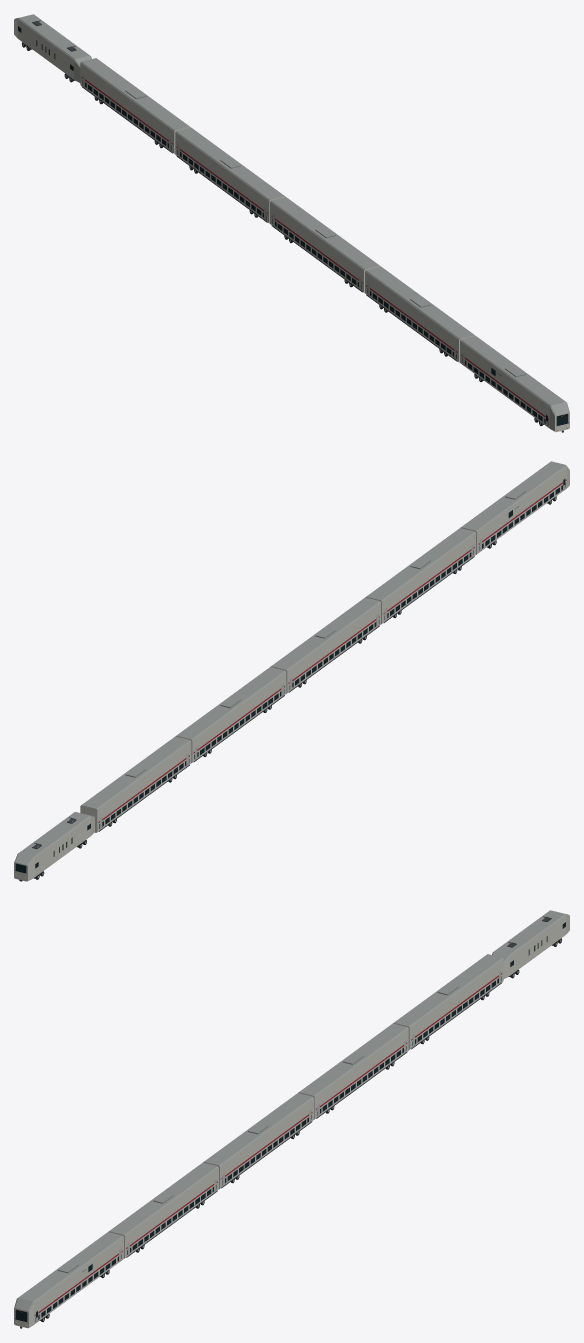
The model's file is ic2-dosto.glb.
3 views of the same model, one above another, from view 1: azimuth 30°, elevation 25°; view 2: azimuth 150°, elevation 25°; view 3: azimuth 330°, elevation 25° (orthographic).
Visible parts, largest first — view 1: ic2-dosto.segment-01.005, ic2-dosto.segment-05.005, ic2-dosto.segment-02.005, ic2-dosto.segment-04.005, ic2-dosto.segment-03.005, ic2-dosto.segment-06.005; view 2: ic2-dosto.segment-05.005, ic2-dosto.segment-04.005, ic2-dosto.segment-02.005, ic2-dosto.segment-03.005, ic2-dosto.segment-01.005, ic2-dosto.segment-06.005; view 3: ic2-dosto.segment-01.005, ic2-dosto.segment-05.005, ic2-dosto.segment-02.005, ic2-dosto.segment-04.005, ic2-dosto.segment-03.005, ic2-dosto.segment-06.005.
Part boxes in pixels (x1=…): ic2-dosto.segment-01.005: x1=460, y1=336, x2=569, y2=432; ic2-dosto.segment-05.005: x1=80, y1=58, x2=190, y2=154; ic2-dosto.segment-02.005: x1=365, y1=266, x2=475, y2=362; ic2-dosto.segment-04.005: x1=175, y1=127, x2=285, y2=223; ic2-dosto.segment-03.005: x1=270, y1=197, x2=380, y2=292; ic2-dosto.segment-06.005: x1=14, y1=14, x2=91, y2=82; ic2-dosto.segment-05.005: x1=80, y1=736, x2=191, y2=832; ic2-dosto.segment-04.005: x1=175, y1=667, x2=286, y2=762; ic2-dosto.segment-02.005: x1=365, y1=528, x2=475, y2=624; ic2-dosto.segment-03.005: x1=270, y1=597, x2=380, y2=693; ic2-dosto.segment-01.005: x1=460, y1=461, x2=569, y2=554; ic2-dosto.segment-06.005: x1=14, y1=812, x2=94, y2=881; ic2-dosto.segment-01.005: x1=14, y1=1232, x2=123, y2=1328; ic2-dosto.segment-05.005: x1=393, y1=954, x2=503, y2=1050; ic2-dosto.segment-02.005: x1=108, y1=1162, x2=218, y2=1258; ic2-dosto.segment-04.005: x1=298, y1=1023, x2=408, y2=1119; ic2-dosto.segment-03.005: x1=203, y1=1093, x2=313, y2=1188; ic2-dosto.segment-06.005: x1=492, y1=910, x2=569, y2=978.
Bounding box in the file's own units: 2.85 × 4.61 × 154.
